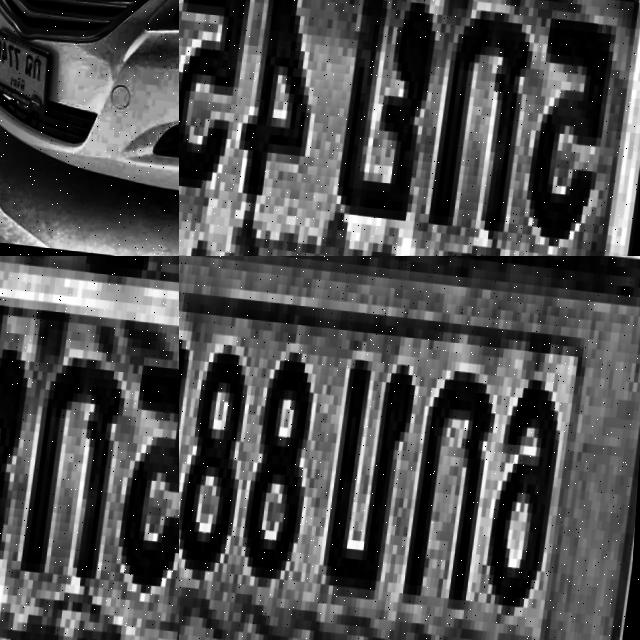license-plate: (179, 256, 640, 640), (179, 0, 640, 256), (0, 256, 179, 640), (0, 28, 64, 114)
